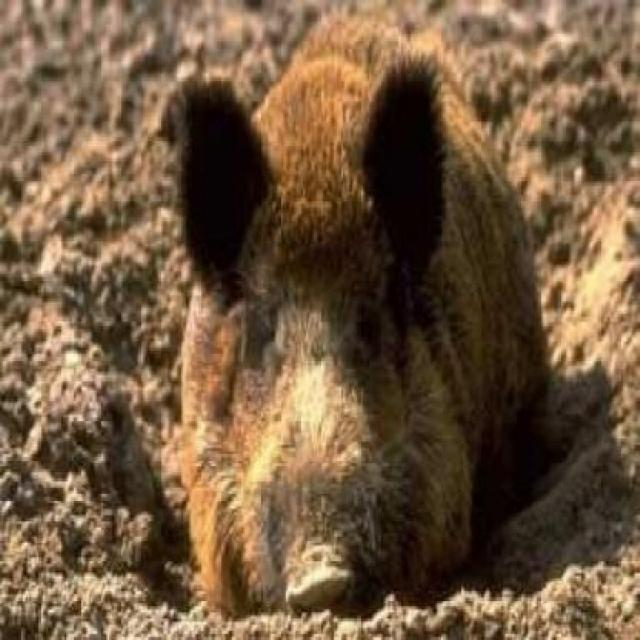pig: (133, 0, 582, 638)
